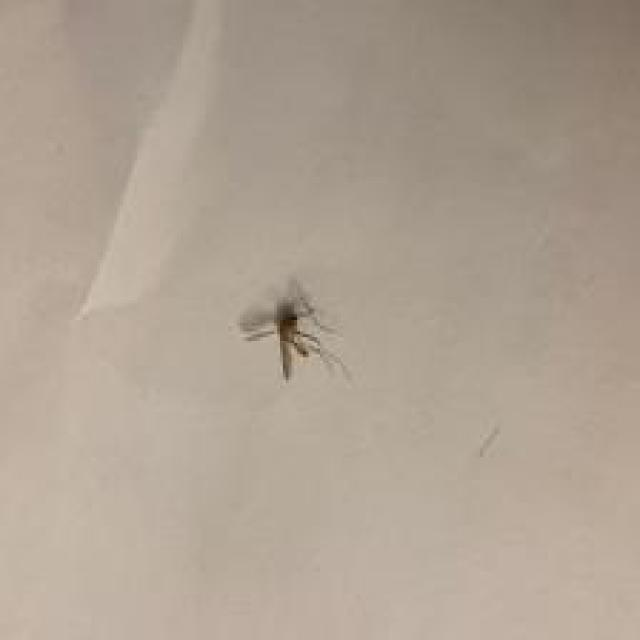Culex: (233, 274, 350, 383)
